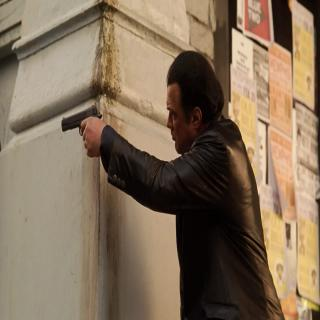gun: (61, 102, 102, 158)
